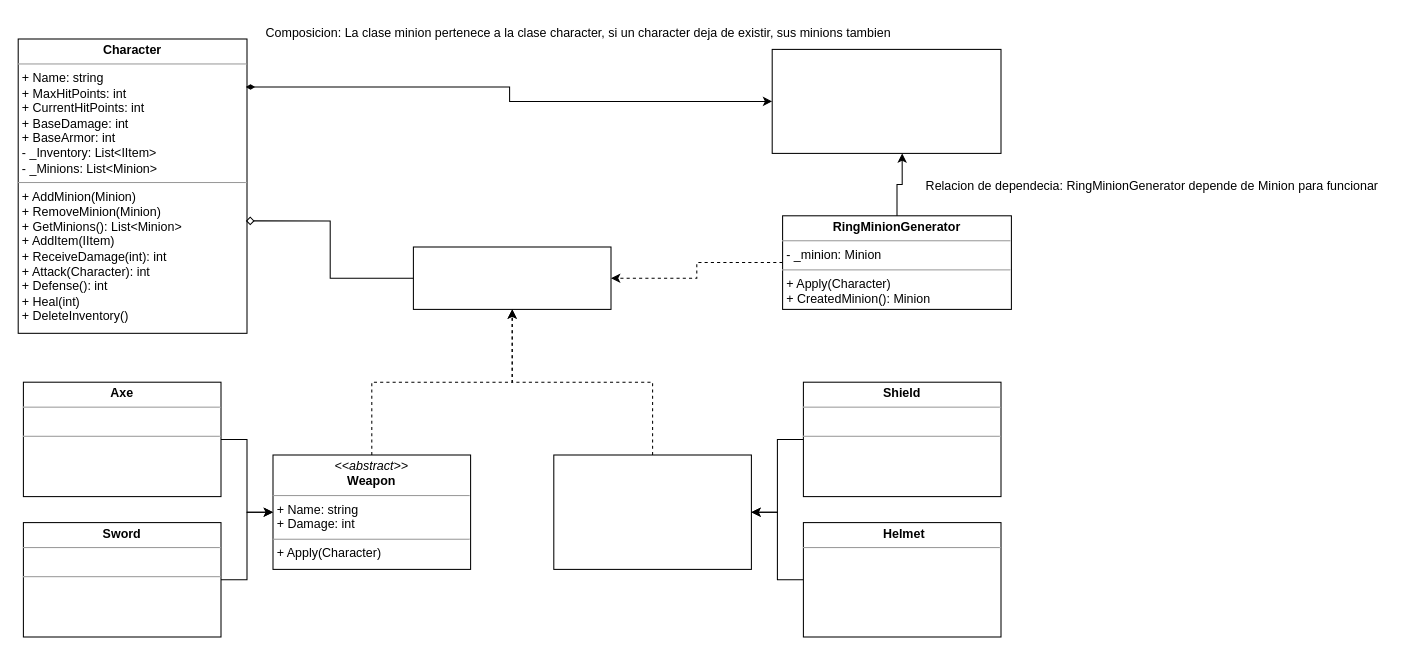
The diagram is 1409 pixels wide and 655 high, and some of its shapes have lost their labels. Each missing label, with the centre of its shape:
<<abstract>> Protection + Name: string + Armor: int + Apply(Character): the point at 652,511
<<Interface>> IItem + Apply(Character): the point at 511,277
Minion + Name: string + AttackDamage: int: the point at 886,100
